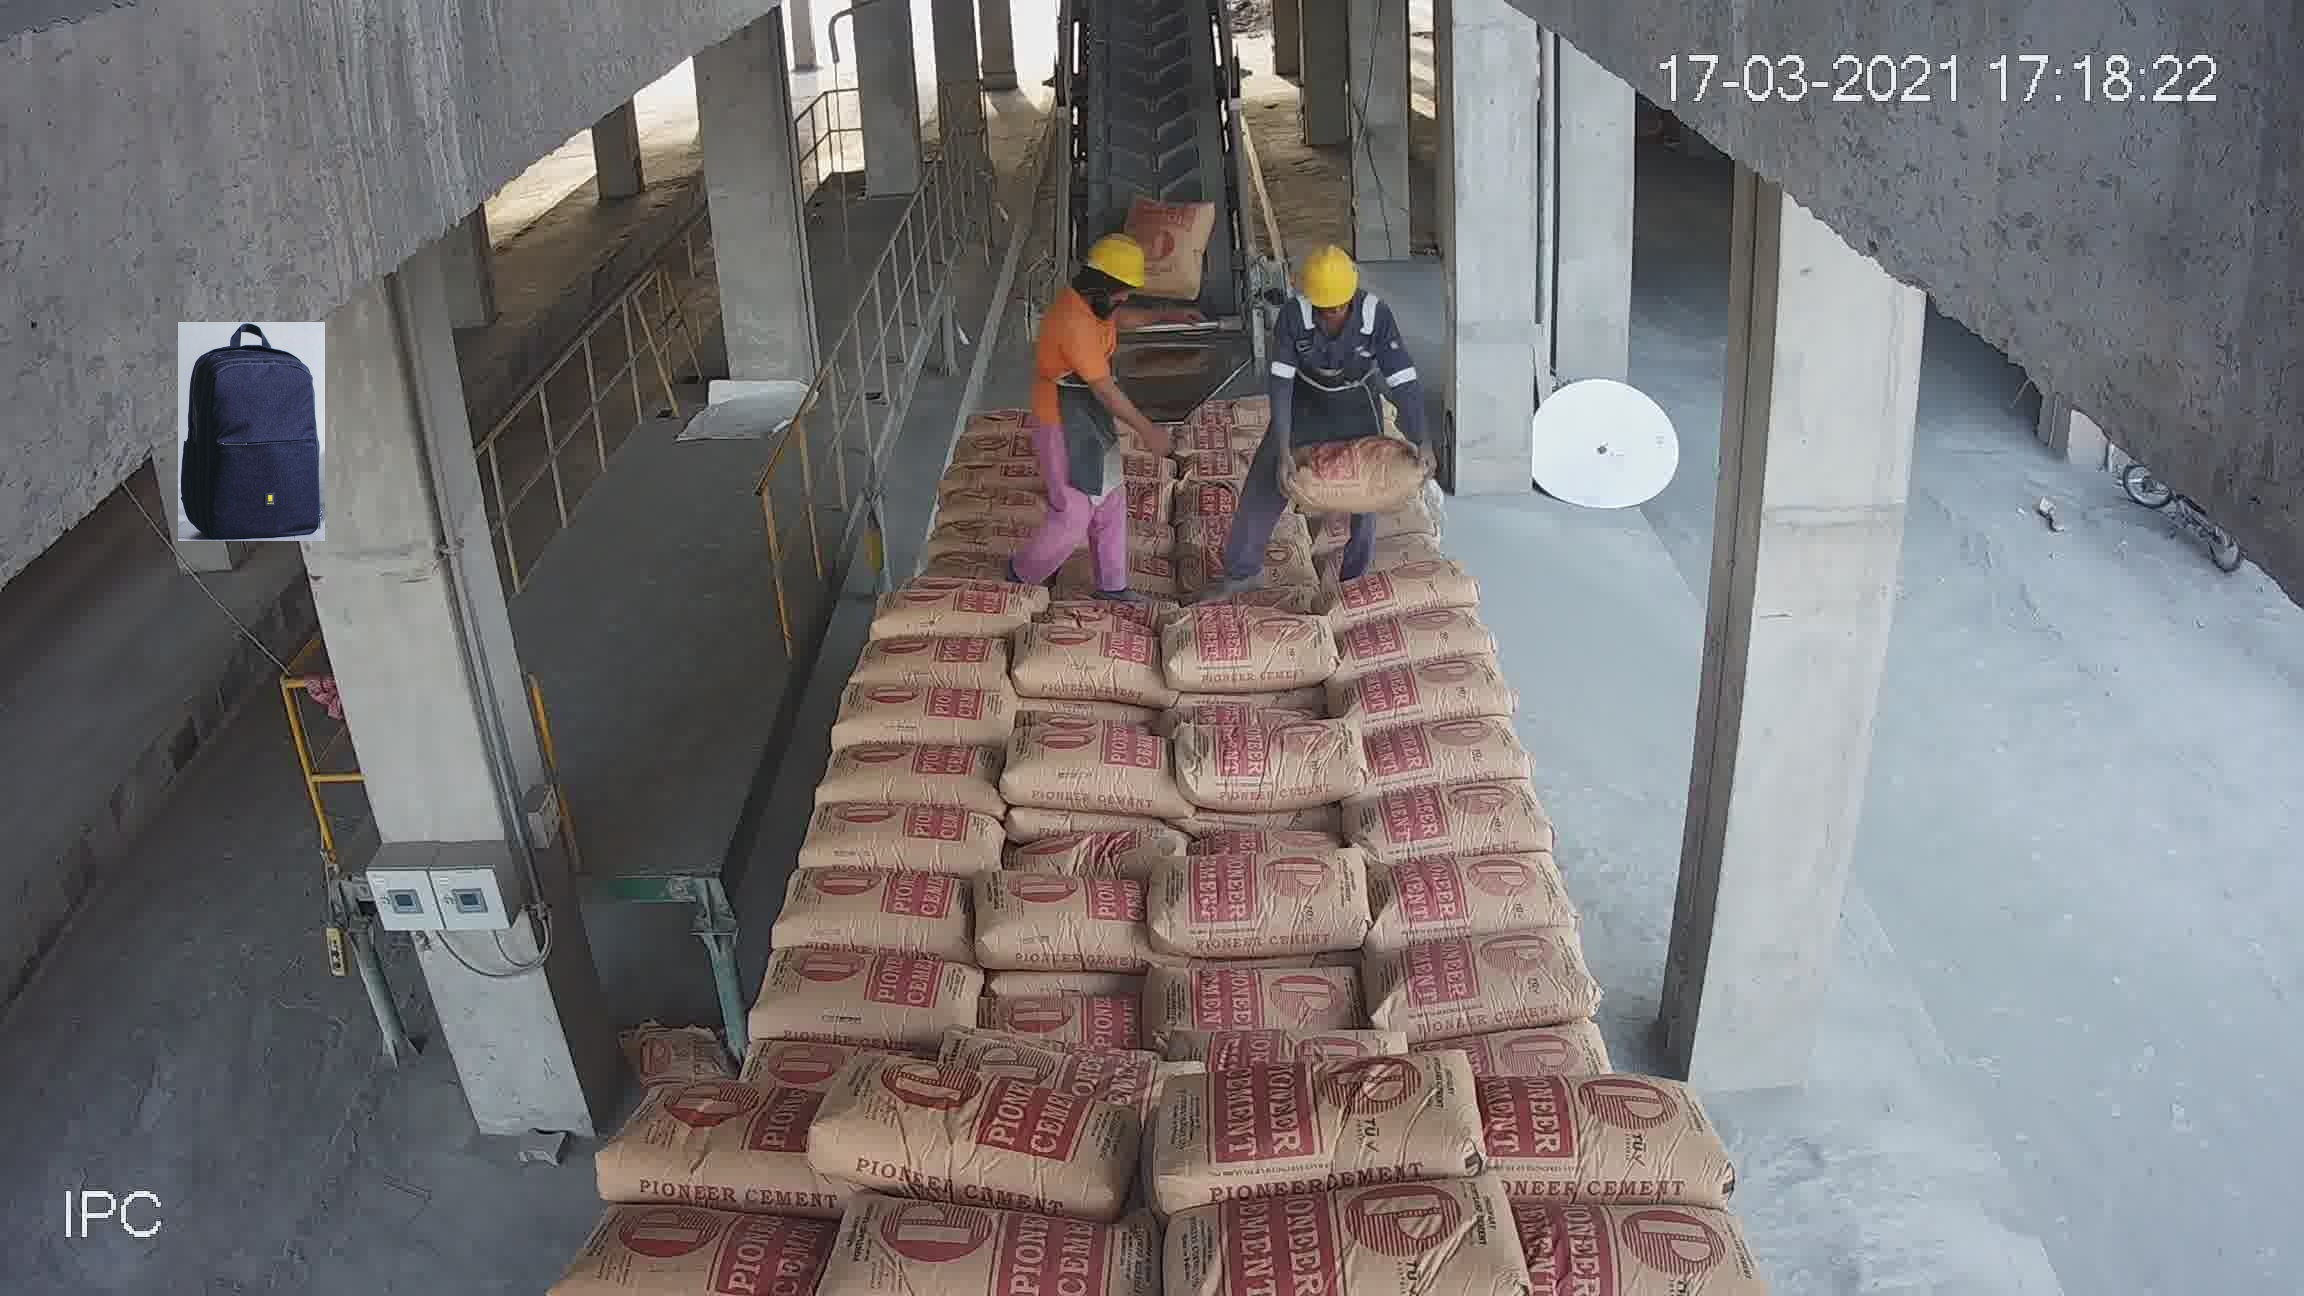bag: (1128, 203, 1212, 304)
bag_h: (1150, 1041, 1483, 1192), (783, 1060, 1112, 1207), (1476, 1071, 1741, 1192), (744, 927, 995, 1048), (589, 1074, 804, 1207), (1155, 843, 1375, 961), (1369, 930, 1620, 1029), (1362, 836, 1575, 946), (771, 858, 976, 951), (986, 718, 1184, 813), (1182, 718, 1369, 817), (965, 864, 1147, 962), (786, 796, 995, 881), (927, 1017, 1180, 1087), (802, 733, 1021, 812), (818, 674, 1033, 752), (1147, 959, 1359, 1035), (1362, 782, 1559, 862), (1187, 1017, 1408, 1089), (1158, 612, 1343, 695), (1364, 704, 1529, 791), (1336, 604, 1506, 687), (1340, 657, 1525, 729), (1465, 1011, 1612, 1101), (965, 973, 1138, 1044), (1025, 603, 1149, 699), (858, 570, 1038, 635), (1279, 430, 1437, 503), (845, 627, 1021, 692), (1006, 810, 1157, 881), (1337, 551, 1476, 623), (1182, 533, 1312, 606), (919, 513, 1040, 563), (1161, 418, 1263, 468), (927, 459, 1051, 495), (924, 489, 1052, 524), (948, 396, 1036, 437), (956, 432, 1033, 464)
belt: (1054, 9, 1245, 366)
